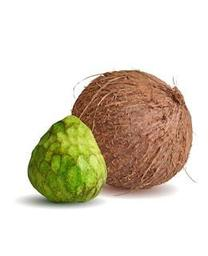coconut: (73, 70, 194, 191)
